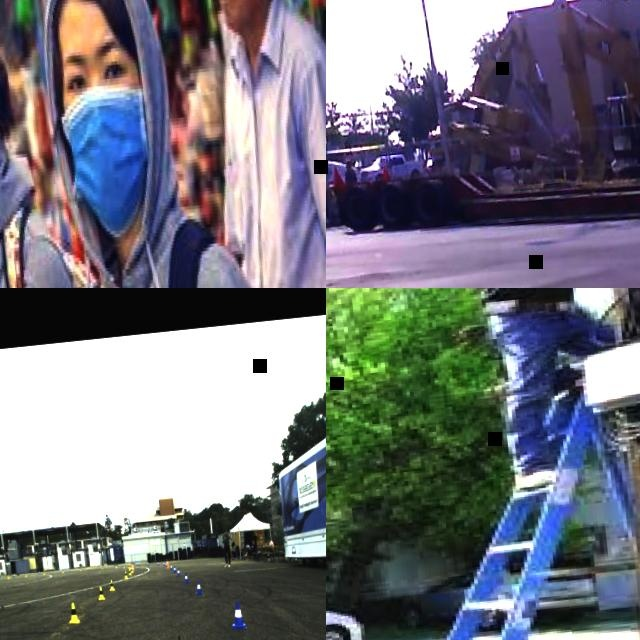Mask: (57, 82, 159, 238)
NO-Hardhat: (43, 0, 149, 39), (345, 159, 352, 166), (222, 527, 226, 530), (267, 537, 270, 539), (253, 531, 255, 534), (246, 541, 248, 544), (243, 546, 245, 549)
NO-Mask: (216, 0, 264, 30)
NO-Safety Vest: (215, 19, 326, 288), (76, 212, 246, 288), (222, 534, 228, 546), (269, 542, 274, 548), (252, 543, 256, 550), (253, 536, 255, 544)
Person: (32, 0, 284, 288), (184, 0, 326, 288), (455, 288, 640, 493), (0, 0, 99, 288), (220, 527, 232, 568), (342, 159, 358, 188), (263, 536, 274, 560), (245, 540, 257, 560), (252, 532, 258, 544), (241, 544, 247, 556), (230, 545, 234, 559), (245, 542, 250, 549)
Safety Cone: (229, 600, 247, 629), (66, 601, 80, 624), (331, 166, 341, 189), (379, 161, 389, 183), (194, 580, 203, 595), (97, 586, 105, 600), (107, 579, 114, 591), (182, 572, 189, 583), (165, 559, 169, 568), (176, 568, 180, 576), (123, 570, 127, 578), (172, 565, 176, 572), (132, 563, 135, 572), (169, 563, 173, 569), (128, 569, 132, 575), (130, 567, 133, 573), (165, 561, 167, 567), (156, 561, 159, 565), (24, 572, 27, 576), (79, 566, 81, 571), (61, 568, 63, 573), (229, 542, 231, 547), (163, 561, 165, 565), (147, 561, 149, 565), (137, 562, 139, 566), (129, 564, 131, 568), (127, 564, 129, 568), (122, 564, 124, 568), (115, 564, 117, 568), (101, 564, 103, 568), (43, 570, 45, 574), (13, 573, 15, 577), (7, 574, 9, 578), (231, 546, 233, 550)
machinery: (411, 7, 558, 185), (547, 0, 640, 189)
vehicle: (358, 149, 426, 186), (326, 572, 363, 640)
